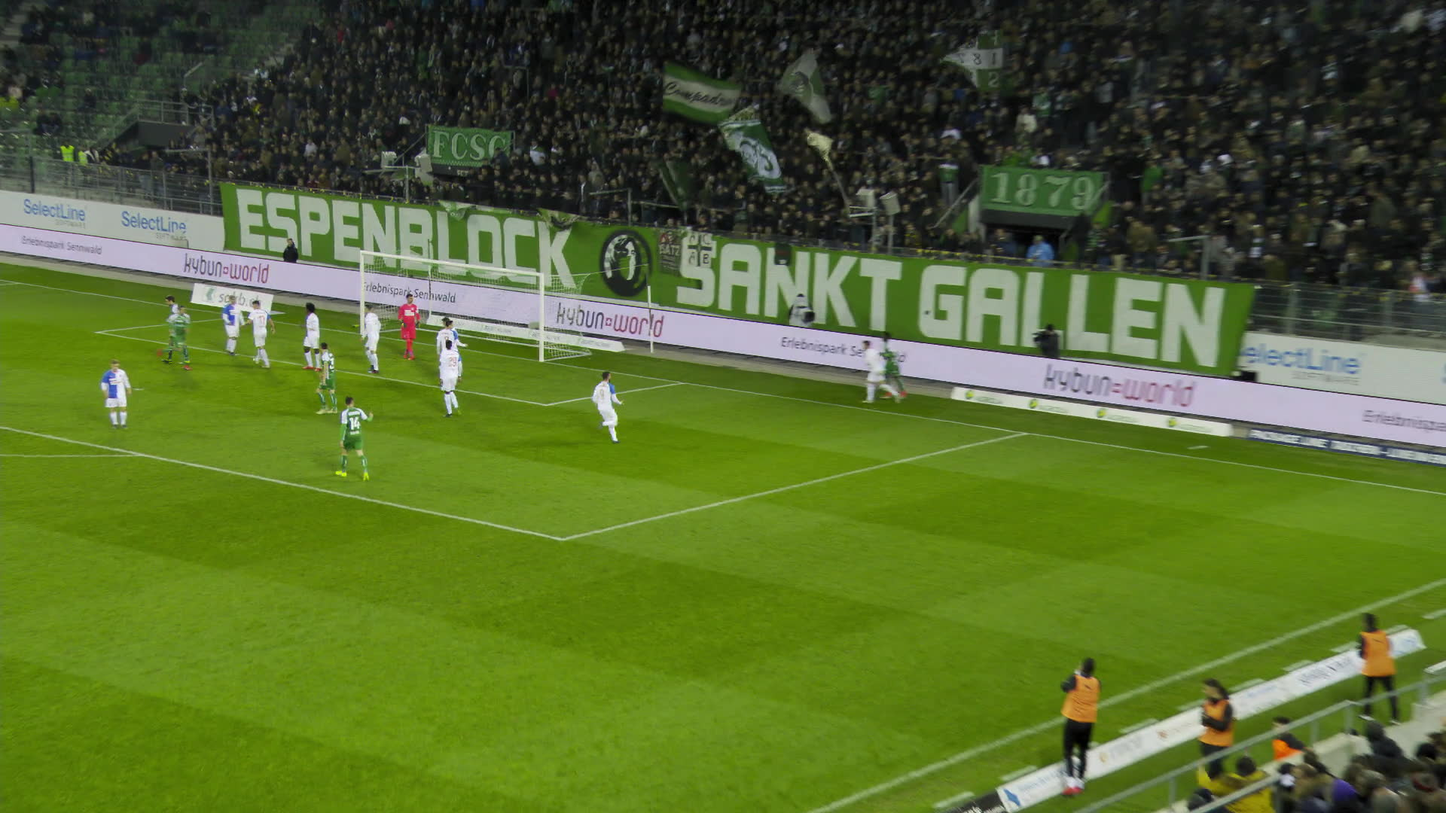player: (351, 401, 391, 492), (165, 298, 209, 373), (589, 370, 628, 445), (325, 349, 364, 422), (871, 342, 913, 409), (157, 309, 195, 377), (441, 343, 473, 420), (99, 360, 133, 431), (246, 300, 279, 370), (441, 321, 471, 390), (893, 335, 922, 403), (217, 295, 244, 361), (401, 294, 426, 361), (302, 303, 325, 373), (367, 304, 389, 376), (444, 318, 463, 375)
